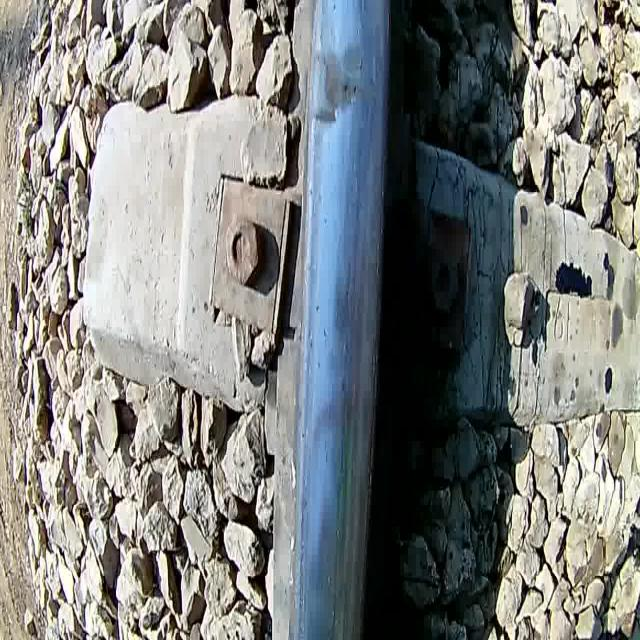Squats: (298, 24, 393, 155)
